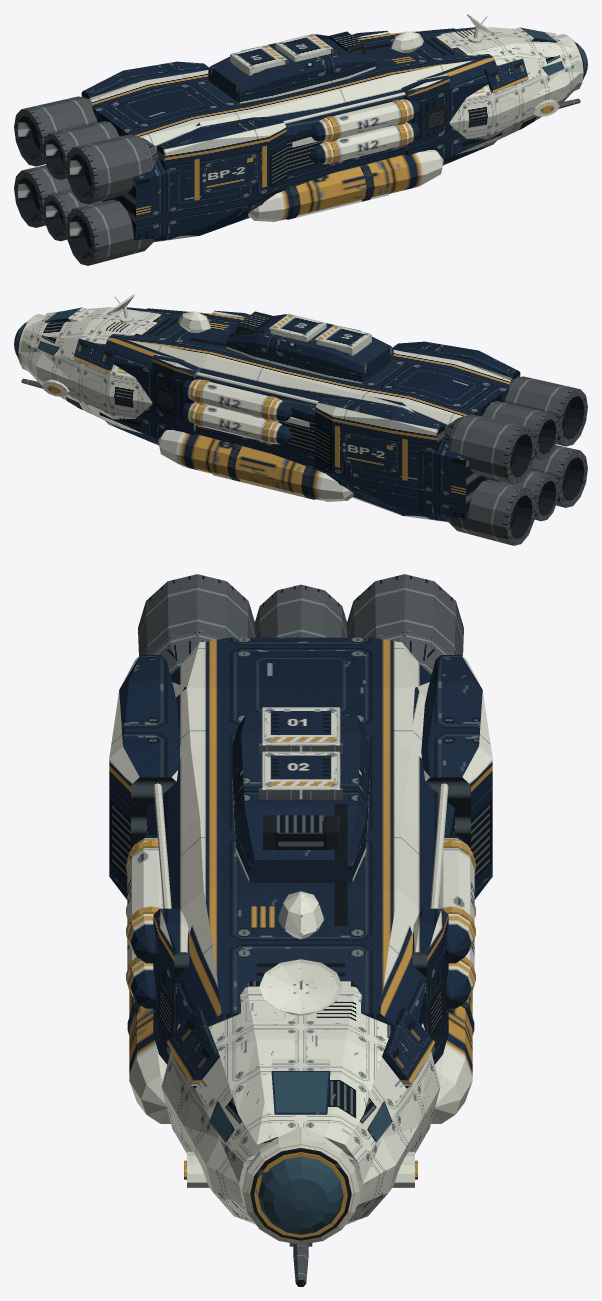
The model's file is prospector.glb.
3 views of the same model, one above another, from view 1: azimuth 30°, elevation 25°; view 2: azimuth 150°, elevation 25°; view 3: azimuth 270°, elevation 25° (orthographic). The views are drawn at different scales.
Visible parts, largest first — view 1: Prospector revised hull; view 2: Prospector revised hull; view 3: Prospector revised hull.
Boxes of the visible parts, <box> form: Prospector revised hull: <box>14,14,587,265</box>; Prospector revised hull: <box>14,294,587,545</box>; Prospector revised hull: <box>109,574,492,1286</box>.
Bounding box in the file's own units: 3.02 × 0.7587 × 0.9494.
4 materials, 3 textured.
